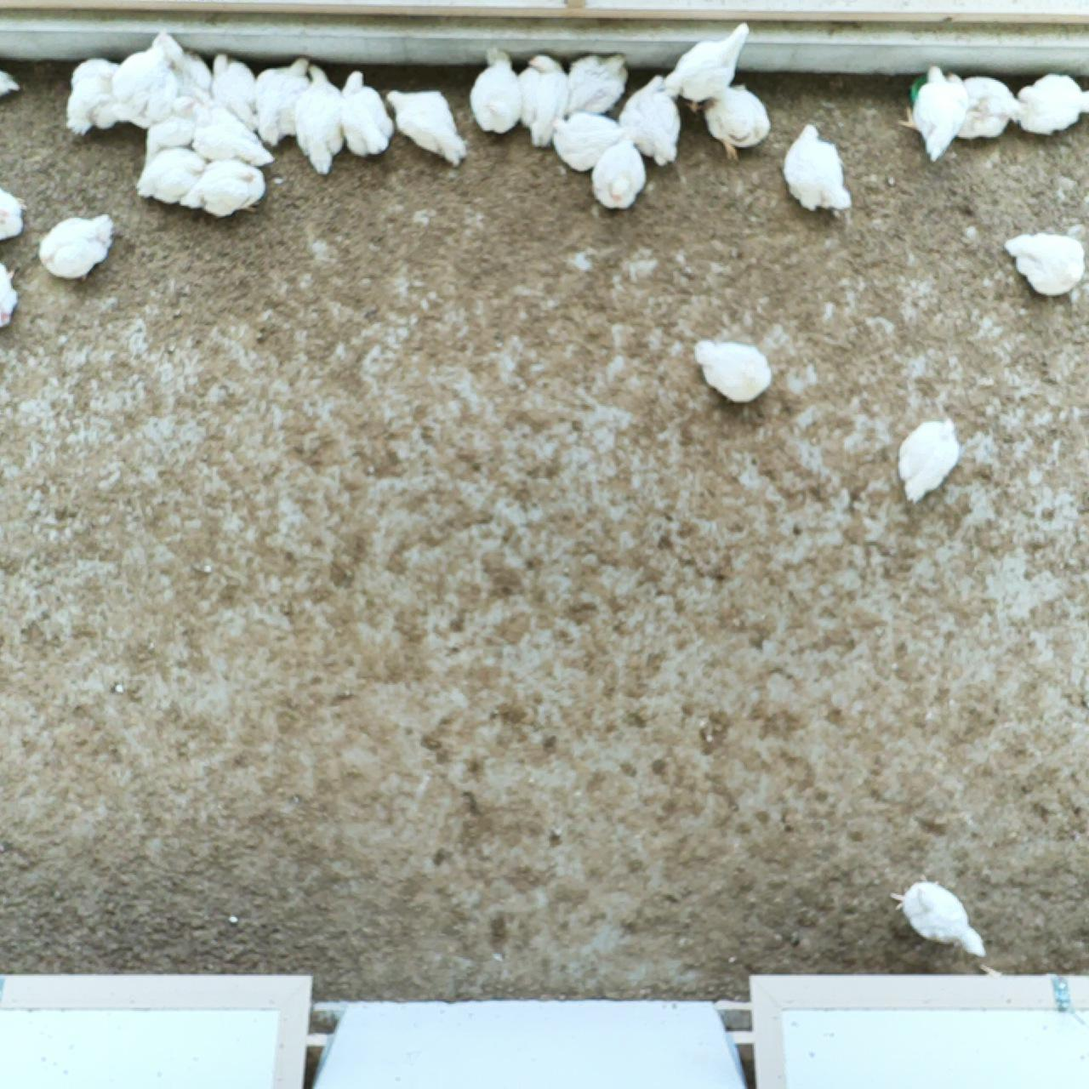chicken: (888, 878, 987, 965), (665, 22, 754, 109), (385, 88, 470, 167), (900, 67, 966, 166), (780, 120, 851, 212), (292, 61, 349, 174), (113, 33, 178, 130), (516, 52, 578, 148), (1005, 229, 1089, 299), (330, 66, 394, 157), (39, 212, 121, 283), (179, 157, 268, 222), (897, 416, 964, 502), (691, 335, 772, 404), (63, 56, 132, 136), (255, 55, 312, 150), (563, 49, 633, 125), (943, 73, 1021, 141), (705, 81, 771, 159), (621, 76, 678, 166), (1014, 70, 1089, 138), (470, 46, 522, 137), (550, 108, 623, 172), (589, 132, 645, 209), (137, 143, 206, 204), (154, 38, 215, 105), (212, 49, 257, 134), (142, 95, 203, 156), (0, 255, 18, 334), (0, 183, 25, 239), (0, 60, 23, 105)
